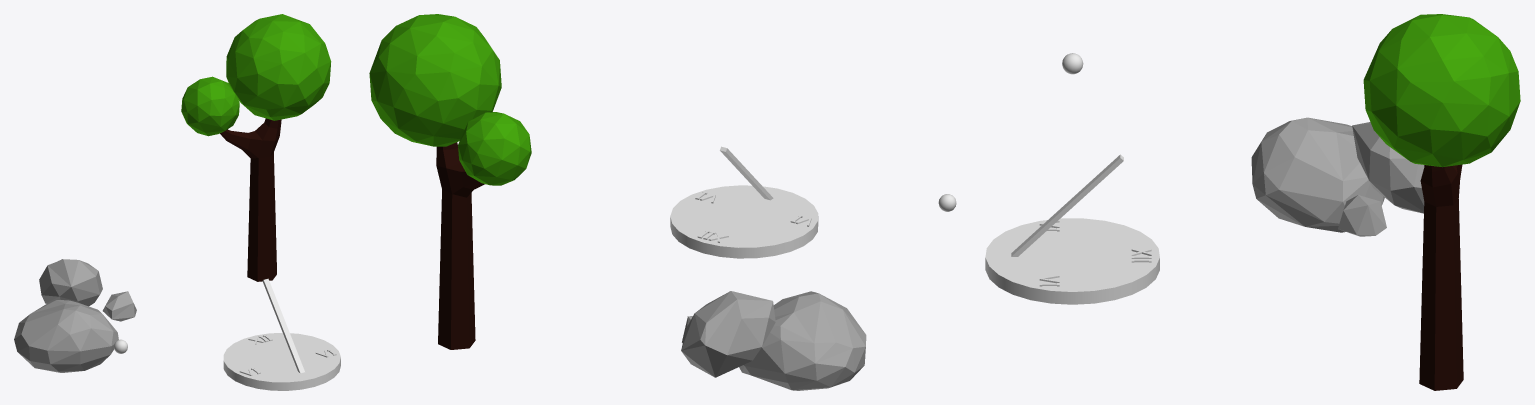
The model's file is sundial.fbx.
The picture shows the model from 3 angles, left to right: view 1: azimuth 30°, elevation 25°; view 2: azimuth 150°, elevation 25°; view 3: azimuth 270°, elevation 25°; orthographic projection. The views are drawn at different scales.
Visible parts, largest first — view 1: Icosphere_Icosphere_002, MoText_2, Sphere_2, Cylinder_014, Icosphere_001_Icosphere_003, Sphere_001, Icosphere_001; view 2: Icosphere_Icosphere_002, MoText_2, Sphere_2, Cylinder_014, Sphere_001, Icosphere_001_Icosphere_003; view 3: Icosphere_Icosphere_002, MoText_2, Sphere_2, Cylinder_014, Sphere_001, Icosphere_001.
Boxes of the visible parts, x1,y1,x2,y2 form: Icosphere_Icosphere_002: (226,14,331,120); MoText_2: (223,278,340,390); Sphere_2: (14,300,118,372); Cylinder_014: (220,118,281,281); Icosphere_001_Icosphere_003: (181,76,239,136); Sphere_001: (39,259,102,306); Icosphere_001: (102,291,136,321); Icosphere_Icosphere_002: (369,14,501,146); MoText_2: (670,146,818,258); Sphere_2: (739,291,866,390); Cylinder_014: (436,142,484,349); Sphere_001: (681,291,775,377); Icosphere_001_Icosphere_003: (458,112,531,185); Icosphere_Icosphere_002: (1363,14,1520,167); MoText_2: (985,154,1159,304); Sphere_2: (1251,117,1384,232); Cylinder_014: (1419,164,1463,390); Sphere_001: (1352,122,1424,213); Icosphere_001: (1338,195,1386,236).
Size of the model in its own units: 336 by 240 by 306.
